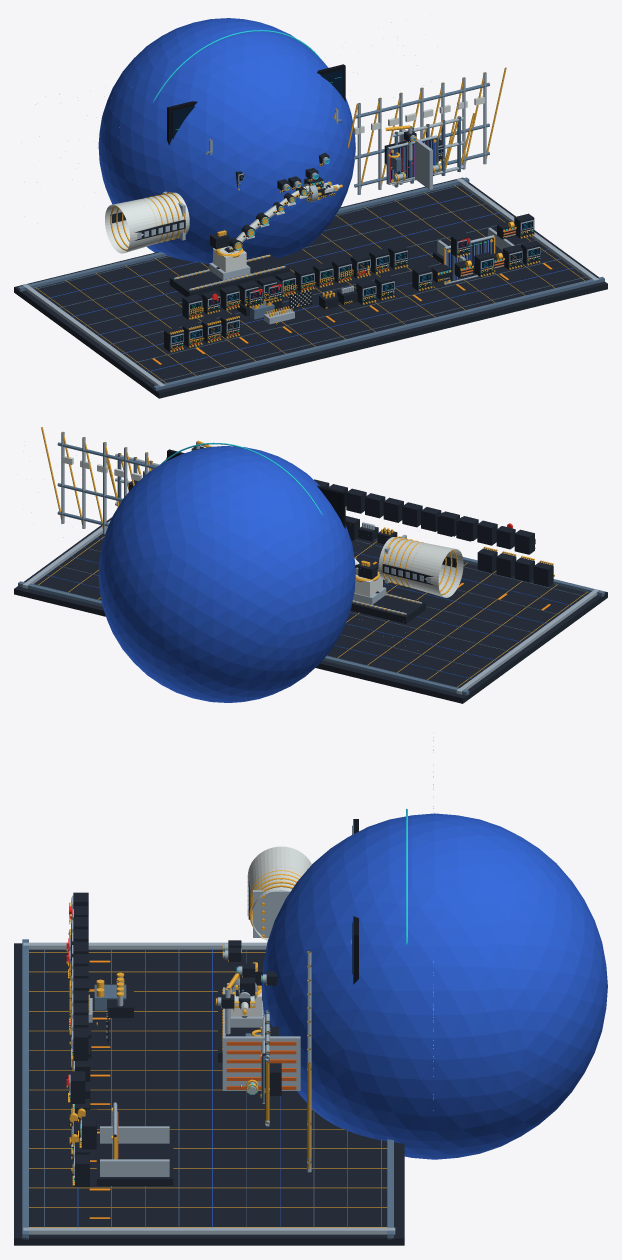
The model's file is Level86_Complete_ArtKit_Showcase.fbx.
The picture shows the model from 3 angles, top to bottom: view 1: azimuth 30°, elevation 25°; view 2: azimuth 150°, elevation 25°; view 3: azimuth 270°, elevation 25°; orthographic projection. The views are drawn at different scales.
Parts seen in each view (by area): view 1: L86_OrbitalForgeArenaBase, L86_PanoramicEarthMaintenanceViewport, L86_StationExteriorServiceTruss, L86_DockedCargoSpacecraft, L86_RobotLinearTraverseRail, L86_RadiatorMountingSpaceTruss, L86_RadiatorThermalInterfacePlate_Part_0000, L86_SevenAxisRobotBase, L86_HolographicOrbitalRoboticsSCADA_Part_0001, L86_HolographicOrbitalRoboticsSCADA; view 2: L86_PanoramicEarthMaintenanceViewport, L86_OrbitalForgeArenaBase, L86_DockedCargoSpacecraft, L86_StationExteriorServiceTruss, L86_RobotLinearTraverseRail, L86_HolographicOrbitalRoboticsSCADA, L86_SevenAxisRobotBase, L86_RadiatorMountingSpaceTruss, L86_RoboticContactSafetyPLC, L86_JointServoDriveRack, L86_Protected5VControlSupply, L86_RobotMotorPowerDistributionUnit (+10 smaller); view 3: L86_PanoramicEarthMaintenanceViewport, L86_OrbitalForgeArenaBase, L86_DockedCargoSpacecraft, L86_FailedRadiatorDisposalCradle_Part_0001, L86_RadiatorThermalInterfacePlate_Part_0000, L86_FailedRadiatorDisposalCradle, L86_RadiatorThermalInterfacePlate_Part_0001, L86_CargoServiceBayHatch_Part_0000, L86_StationExteriorServiceTruss, L86_RobotLinearTraverseRail.
Part boxes in pixels (<box>): L86_OrbitalForgeArenaBase: <box>14,177,607,398</box>; L86_PanoramicEarthMaintenanceViewport: <box>21,18,437,263</box>; L86_StationExteriorServiceTruss: <box>353,67,506,194</box>; L86_DockedCargoSpacecraft: <box>105,192,189,253</box>; L86_RobotLinearTraverseRail: <box>169,253,289,296</box>; L86_RadiatorMountingSpaceTruss: <box>391,113,474,187</box>; L86_RadiatorThermalInterfacePlate_Part_0000: <box>400,129,432,189</box>; L86_SevenAxisRobotBase: <box>213,246,246,272</box>; L86_HolographicOrbitalRoboticsSCADA_Part_0001: <box>172,70,342,139</box>; L86_HolographicOrbitalRoboticsSCADA: <box>167,64,345,145</box>; L86_PanoramicEarthMaintenanceViewport: <box>17,441,430,702</box>; L86_OrbitalForgeArenaBase: <box>14,517,607,703</box>; L86_DockedCargoSpacecraft: <box>378,536,463,597</box>; L86_StationExteriorServiceTruss: <box>41,427,166,534</box>; L86_RobotLinearTraverseRail: <box>350,593,425,623</box>; L86_HolographicOrbitalRoboticsSCADA: <box>167,449,345,528</box>; L86_SevenAxisRobotBase: <box>354,571,382,596</box>; L86_RadiatorMountingSpaceTruss: <box>106,453,159,507</box>; L86_RoboticContactSafetyPLC: <box>514,529,535,554</box>; L86_JointServoDriveRack: <box>533,562,553,586</box>; L86_Protected5VControlSupply: <box>477,520,497,545</box>; L86_RobotMotorPowerDistributionUnit: <box>458,516,478,540</box>; L86_PanoramicEarthMaintenanceViewport: <box>261,732,607,1159</box>; L86_OrbitalForgeArenaBase: <box>14,939,404,1245</box>; L86_DockedCargoSpacecraft: <box>247,846,311,940</box>; L86_FailedRadiatorDisposalCradle_Part_0001: <box>100,1126,169,1176</box>; L86_RadiatorThermalInterfacePlate_Part_0000: <box>222,1036,300,1090</box>; L86_FailedRadiatorDisposalCradle: <box>96,1139,173,1185</box>; L86_RadiatorThermalInterfacePlate_Part_0001: <box>226,1041,296,1089</box>; L86_CargoServiceBayHatch_Part_0000: <box>253,890,290,937</box>; L86_StationExteriorServiceTruss: <box>307,966,311,1172</box>; L86_RobotLinearTraverseRail: <box>218,987,264,1062</box>.
Size of what is drawn, in the model's own units: 3055 by 1519 by 2555.
